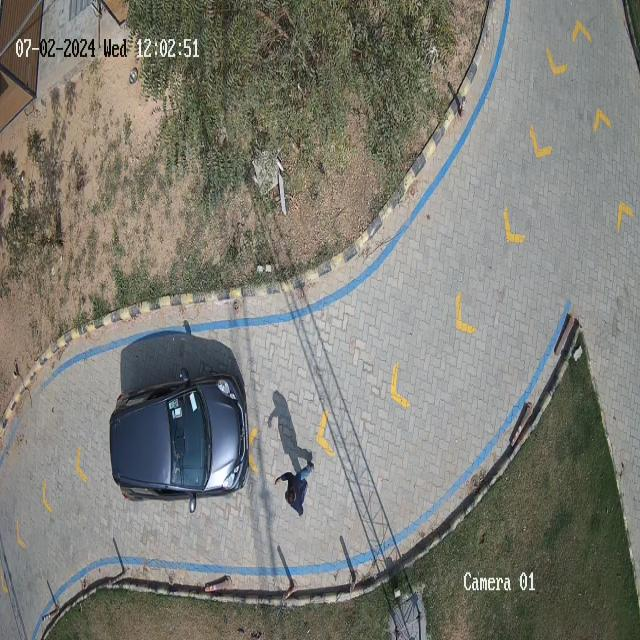car: (110, 367, 249, 513)
